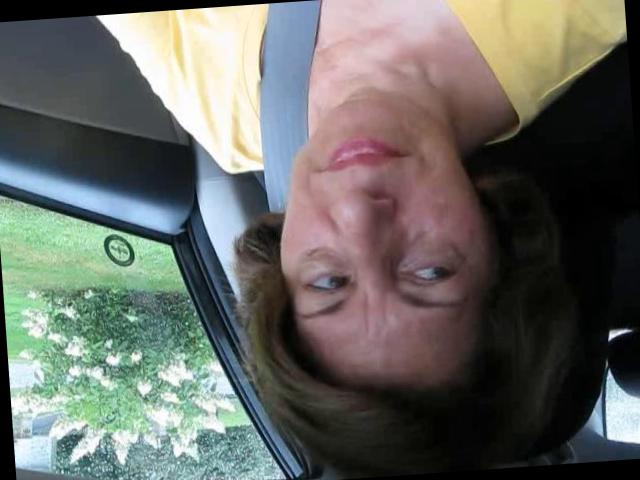eye_open: (400, 253, 470, 294), (298, 262, 357, 300)
face: (265, 81, 494, 353)
